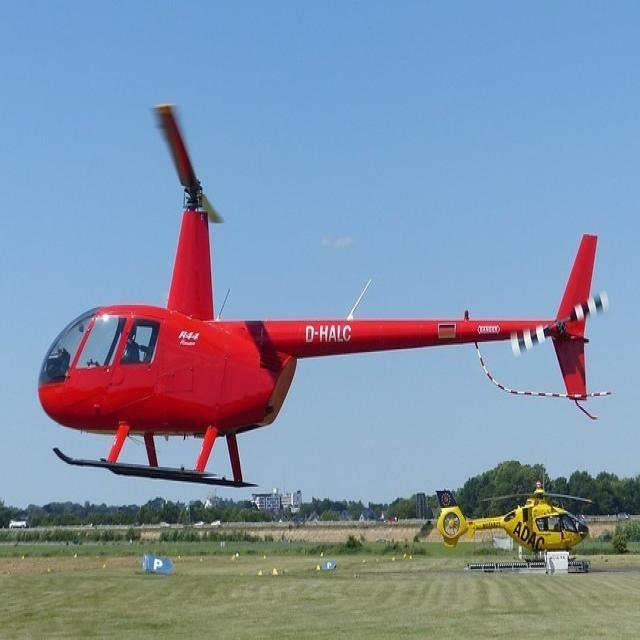CIV_HELO: (38, 173, 598, 490)
